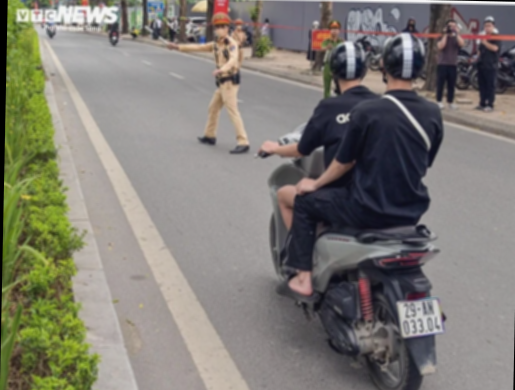Bien-so: (392, 296, 446, 343)
